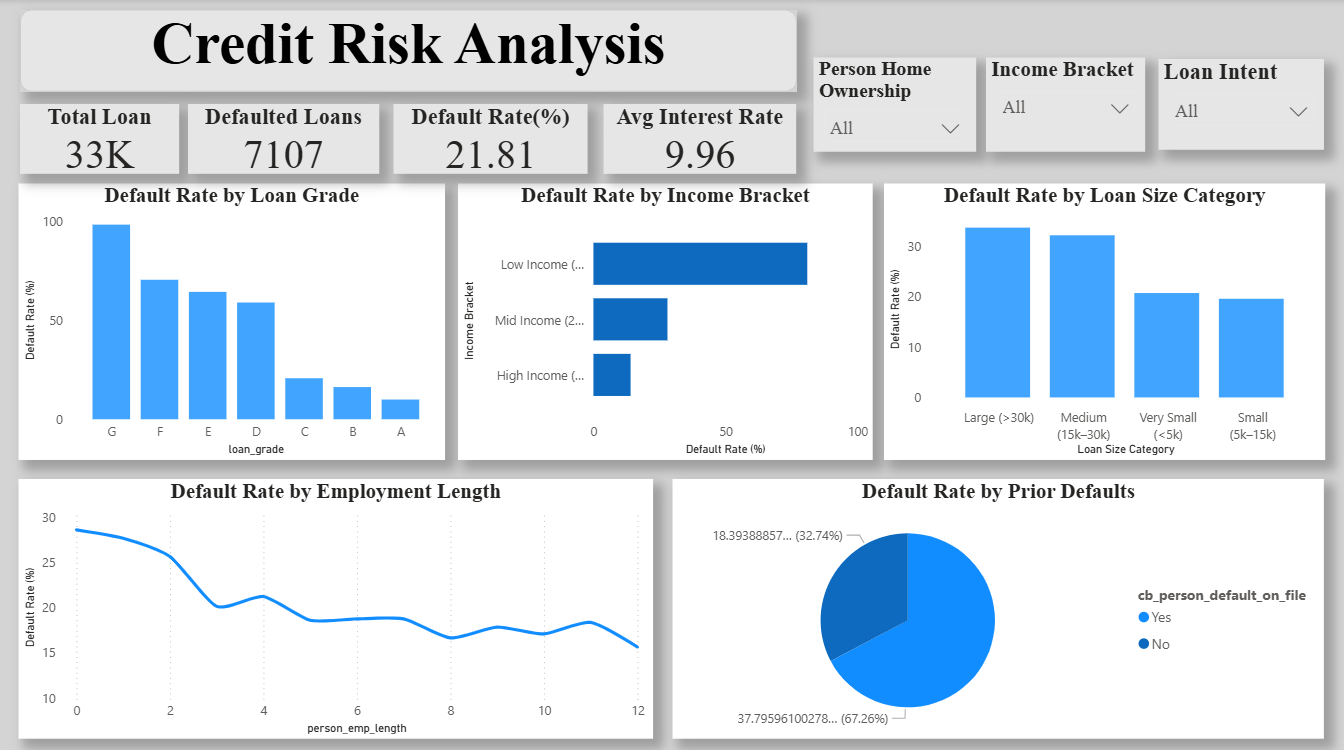

What the dashboard file says about the page in this screenshot:
{"tool":"powerbi","page":{"name":"Page 1","canvas":[1286,720],"ordinal":0},"visuals":[{"type":"columnChart","title":"Default Rate by Loan Grade","fields":{"Category":["credit_risk_dataset.loan_grade"],"Y":["credit_risk_dataset.Default Rate (%)"]},"box":[19.1,176.6,407.2,264],"z":0},{"type":"barChart","title":"Default Rate by Income Bracket","fields":{"Category":["credit_risk_dataset.Income Bracket"],"Y":["credit_risk_dataset.Default Rate (%)"]},"box":[439,176.6,396.1,264],"z":1000},{"type":"columnChart","title":"Default Rate by Loan Size Category","fields":{"Y":["credit_risk_dataset.Default Rate (%)"],"Category":["credit_risk_dataset.Loan Size Category"]},"box":[844.6,176.6,421.5,264],"z":2000},{"type":"lineChart","title":"Default Rate by Employment Length","fields":{"Y":["credit_risk_dataset.Default Rate (%)"],"Category":["credit_risk_dataset.person_emp_length"]},"box":[19.1,458.1,606,248.1],"z":3000},{"type":"barChart","title":"Default Rate by Prior Defaults","fields":{"Category":["credit_risk_dataset.cb_person_default_on_file"],"Y":["credit_risk_dataset.Default Rate (%)"]},"box":[643.5,457.9,622.2,248],"z":4000},{"type":"shape","box":[19.8,10.6,1245.9,66.9],"z":5000},{"type":"card","title":"Total Loan","fields":{"Values":["credit_risk_dataset.Total Loans"]},"box":[19.1,87.5,132,79.5],"z":6000},{"type":"card","title":"Defaulted Loans","fields":{"Values":["credit_risk_dataset.Defaulted Loans"]},"box":[163.8,87.5,157.5,79.5],"z":7000},{"type":"card","title":"Default Rate(%)","fields":{"Values":["credit_risk_dataset.Default Rate (%)"]},"box":[332.4,87.5,160.7,81.1],"z":8000},{"type":"card","title":"Avg Interest Rate","fields":{"Values":["credit_risk_dataset.Average Interest Rate"]},"box":[504.2,87.5,170.2,81.1],"z":9000},{"type":"slicer","title":"Person Home Ownership","fields":{"Values":["credit_risk_dataset.person_home_ownership"]},"box":[1027.5,87.5,238.6,81.1],"z":10000},{"type":"slicer","title":"Income Bracket","fields":{"Values":["credit_risk_dataset.Income Bracket"]},"box":[844.6,87.5,170.2,79.5],"z":11000},{"type":"slicer","title":"Loan Intent","fields":{"Values":["credit_risk_dataset.loan_intent"]},"box":[696.7,87.5,138.4,79.5],"z":12000}]}

Visuals, with their boxes in screenshot pixels (x1, y1, x2, y2), scaled from the page's 1286x720 canvas onto the 1344x750 screenshot:
"Default Rate by Loan Grade" columnChart: detection(20, 184, 446, 459)
"Default Rate by Income Bracket" barChart: detection(459, 184, 873, 459)
"Default Rate by Loan Size Category" columnChart: detection(883, 184, 1323, 459)
"Default Rate by Employment Length" lineChart: detection(20, 477, 653, 736)
"Default Rate by Prior Defaults" barChart: detection(673, 477, 1323, 735)
shape: detection(21, 11, 1323, 81)
"Total Loan" card: detection(20, 91, 158, 174)
"Defaulted Loans" card: detection(171, 91, 336, 174)
"Default Rate(%)" card: detection(347, 91, 515, 176)
"Avg Interest Rate" card: detection(527, 91, 705, 176)
"Person Home Ownership" slicer: detection(1074, 91, 1323, 176)
"Income Bracket" slicer: detection(883, 91, 1061, 174)
"Loan Intent" slicer: detection(728, 91, 873, 174)
